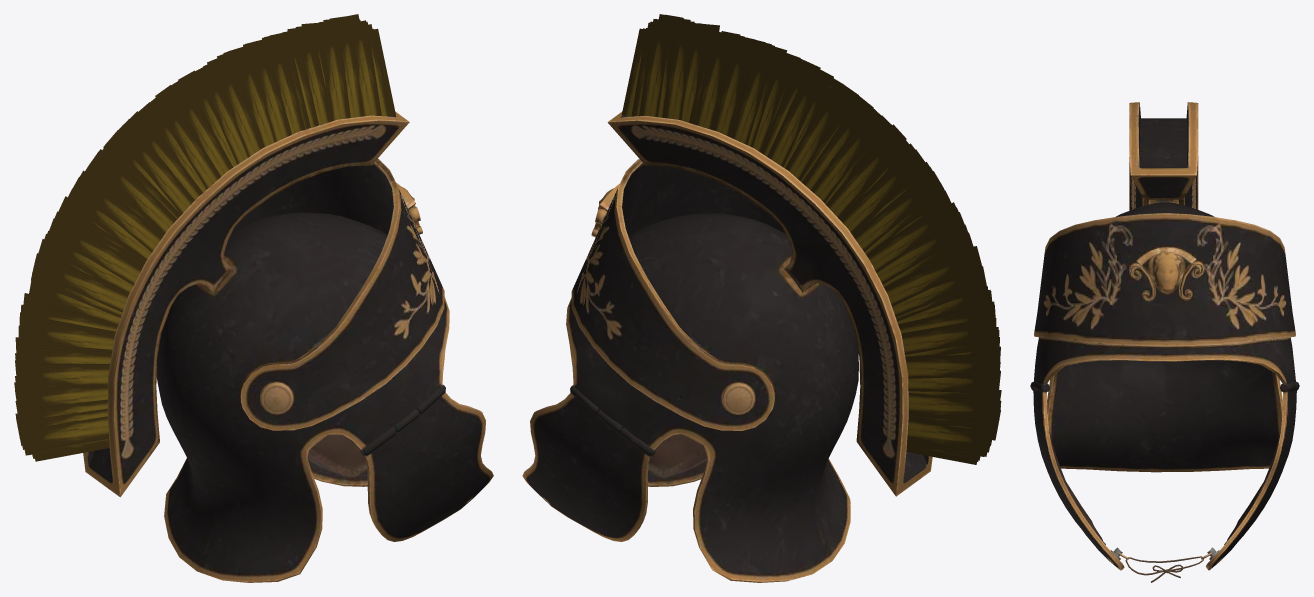
File: helmet.glb
3 views of the same model, side by side, from view 1: azimuth 30°, elevation 25°; view 2: azimuth 150°, elevation 25°; view 3: azimuth 270°, elevation 25° (orthographic). The views are drawn at different scales.
Parts seen in each view (by area): view 1: Object_3, Object_2; view 2: Object_3, Object_2; view 3: Object_3.
Part boxes in pixels (left/top/right/bottom): Object_3: left=83, top=111, right=493, bottom=582; Object_2: left=14, top=14, right=395, bottom=461; Object_3: left=522, top=111, right=932, bottom=582; Object_2: left=621, top=14, right=1001, bottom=464; Object_3: left=1030, top=102, right=1299, bottom=582.
Bounding box in the file's own units: 2.51 × 2.77 × 1.41.
2 materials, 2 textured.
